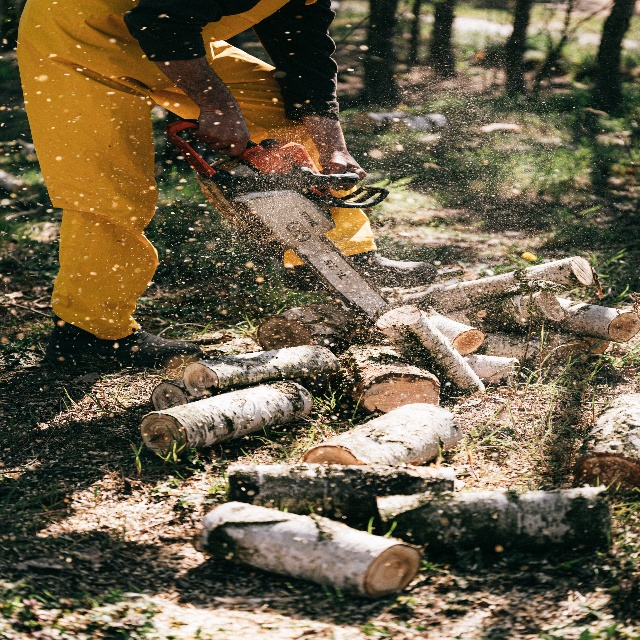Sin_guantes: (197, 94, 250, 156), (317, 147, 367, 192)
